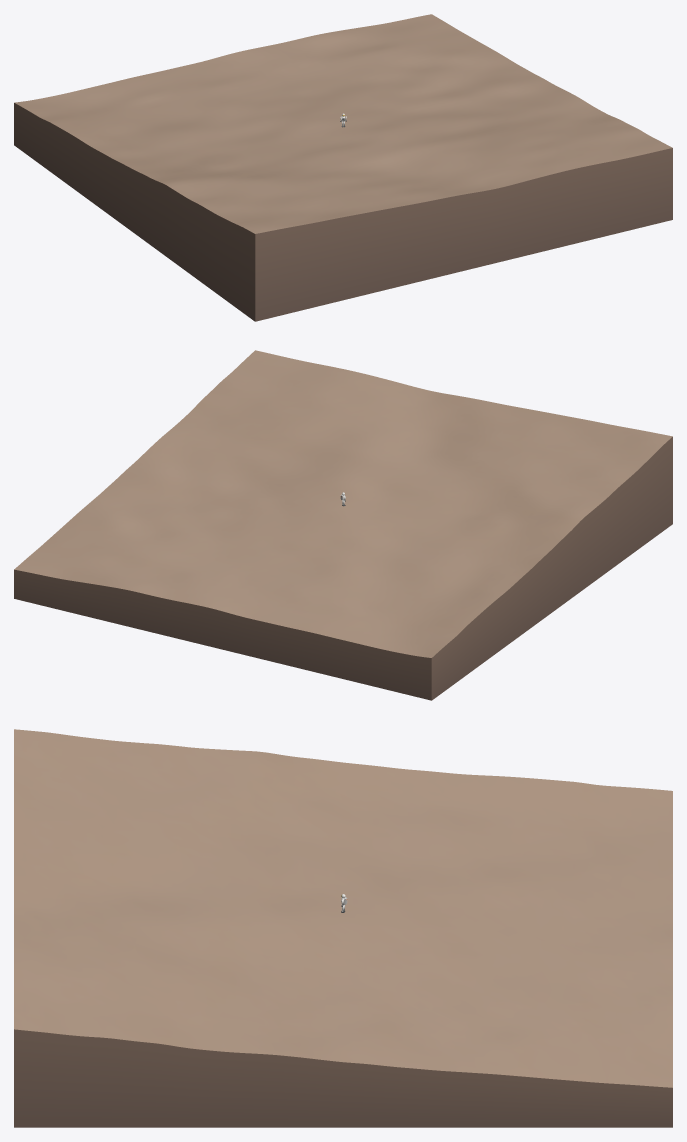
File: wp4-contact.glb
3 views of the same model, one above another, from view 1: azimuth 30°, elevation 25°; view 2: azimuth 150°, elevation 25°; view 3: azimuth 270°, elevation 25° (orthographic). The views are drawn at different scales.
Parts seen in each view (by area): view 1: wp4-contact; view 2: wp4-contact; view 3: wp4-contact.
Part boxes in pixels (box(x1,y1,x2,y2)): wp4-contact: box(14, 14, 672, 321); wp4-contact: box(14, 350, 672, 700); wp4-contact: box(14, 729, 672, 1127).
Size of the model in its own units: 59.94 by 12.03 by 59.94.
